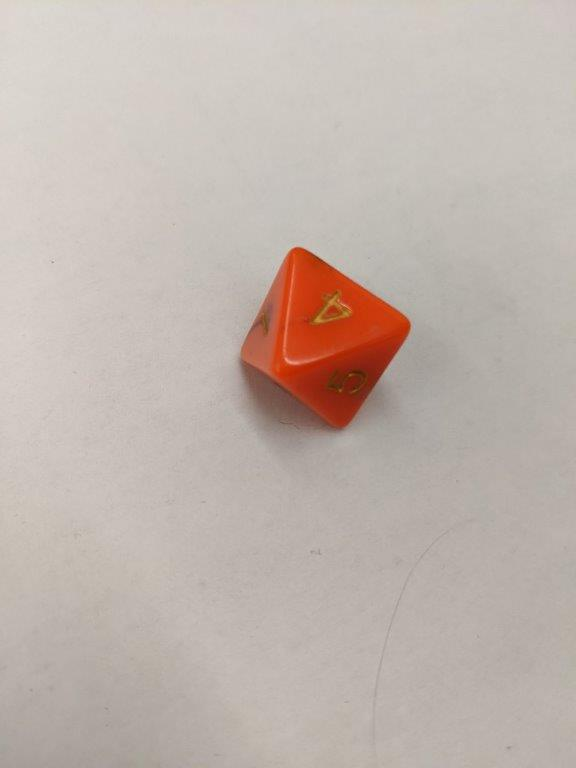d8-4: (240, 247, 412, 434)
